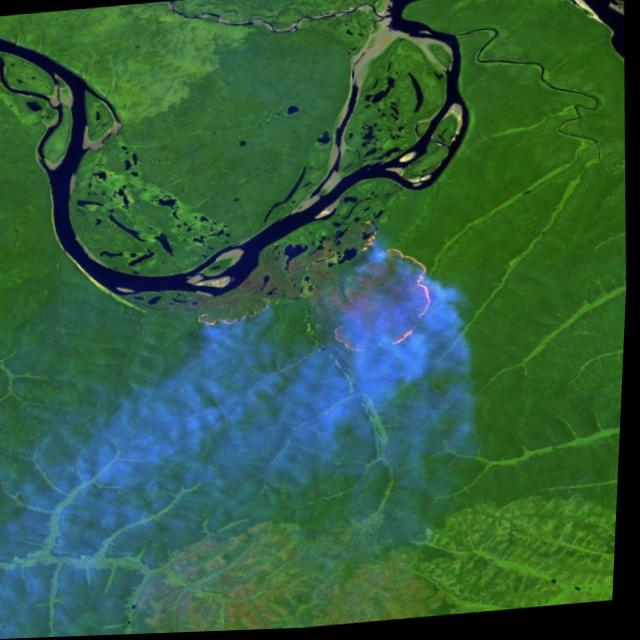fire: (323, 242, 455, 362), (191, 288, 283, 336)
